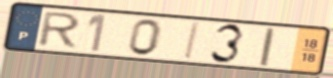0: (126, 18, 164, 58)
1: (84, 12, 108, 54)
3: (207, 23, 252, 65)
I: (182, 21, 203, 61), (257, 26, 277, 67)
R: (34, 10, 84, 50)
